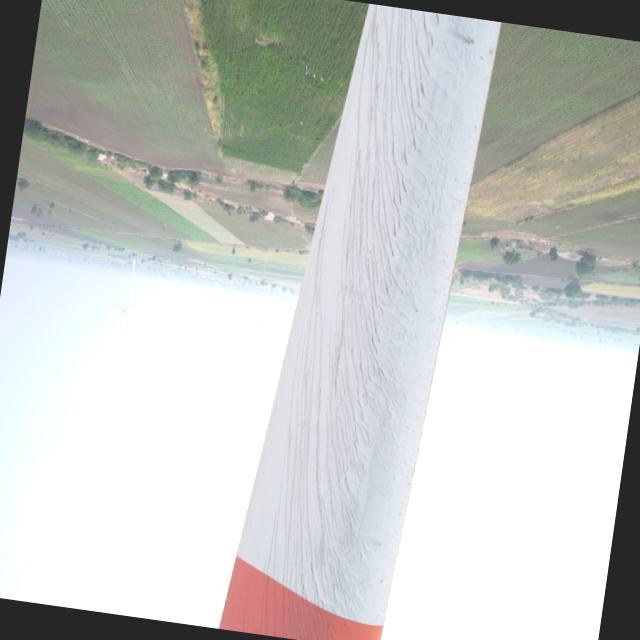Dirt: (219, 7, 507, 640)
